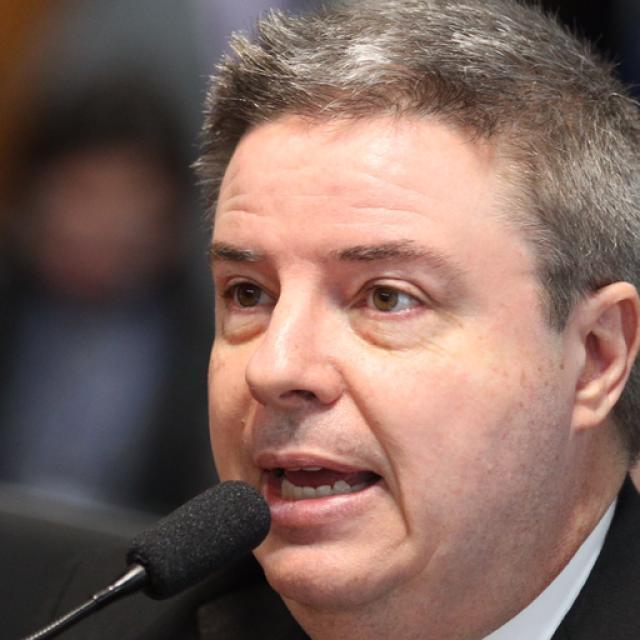0_rostro_limpio: (206, 0, 640, 608)
